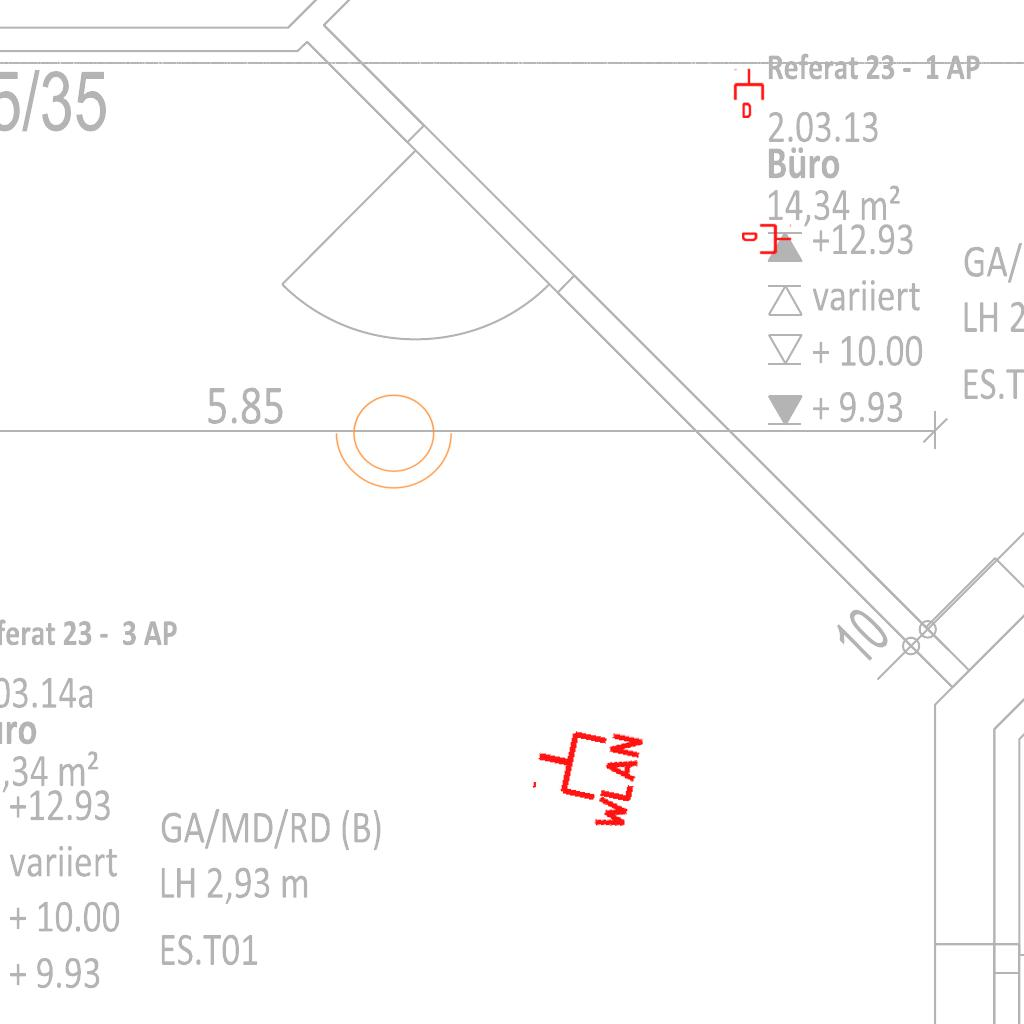Datenanschluss_einfach: (742, 222, 792, 256), (732, 68, 766, 118)
Scheinwerfer_fuer_Alarmbeleuchtung: (331, 382, 463, 494)
WLAN: (522, 713, 647, 837)
